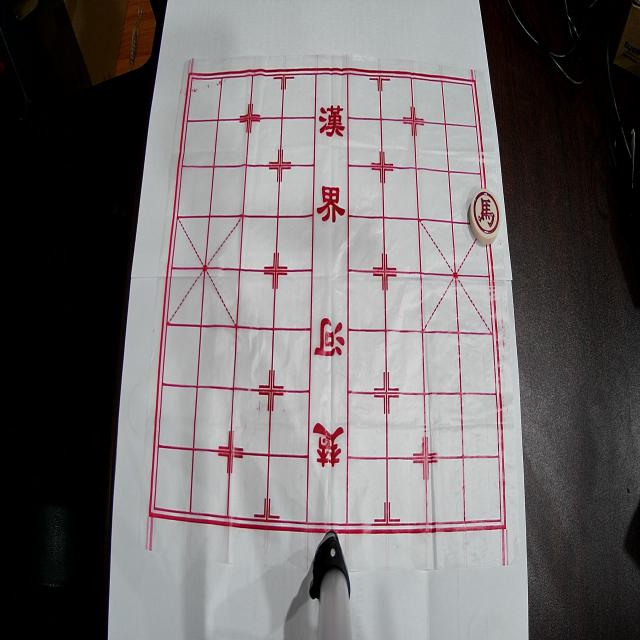red-horse: (469, 189, 501, 244)
